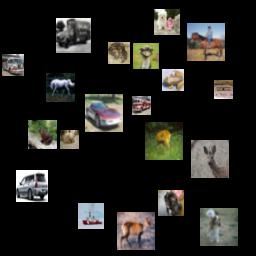airplane: (214, 80, 233, 99)
automobile: (85, 94, 123, 132), (16, 170, 48, 202)
bird: (133, 43, 159, 69)
deer: (117, 212, 155, 250), (145, 122, 183, 160), (191, 140, 229, 178)
dog: (200, 208, 238, 246), (158, 190, 184, 216), (154, 9, 180, 35), (60, 130, 79, 149)
frog: (28, 120, 57, 149), (162, 69, 184, 91), (108, 42, 130, 64)
ship: (78, 203, 104, 229)
truck: (56, 18, 91, 53), (2, 54, 24, 76), (132, 96, 151, 115)
